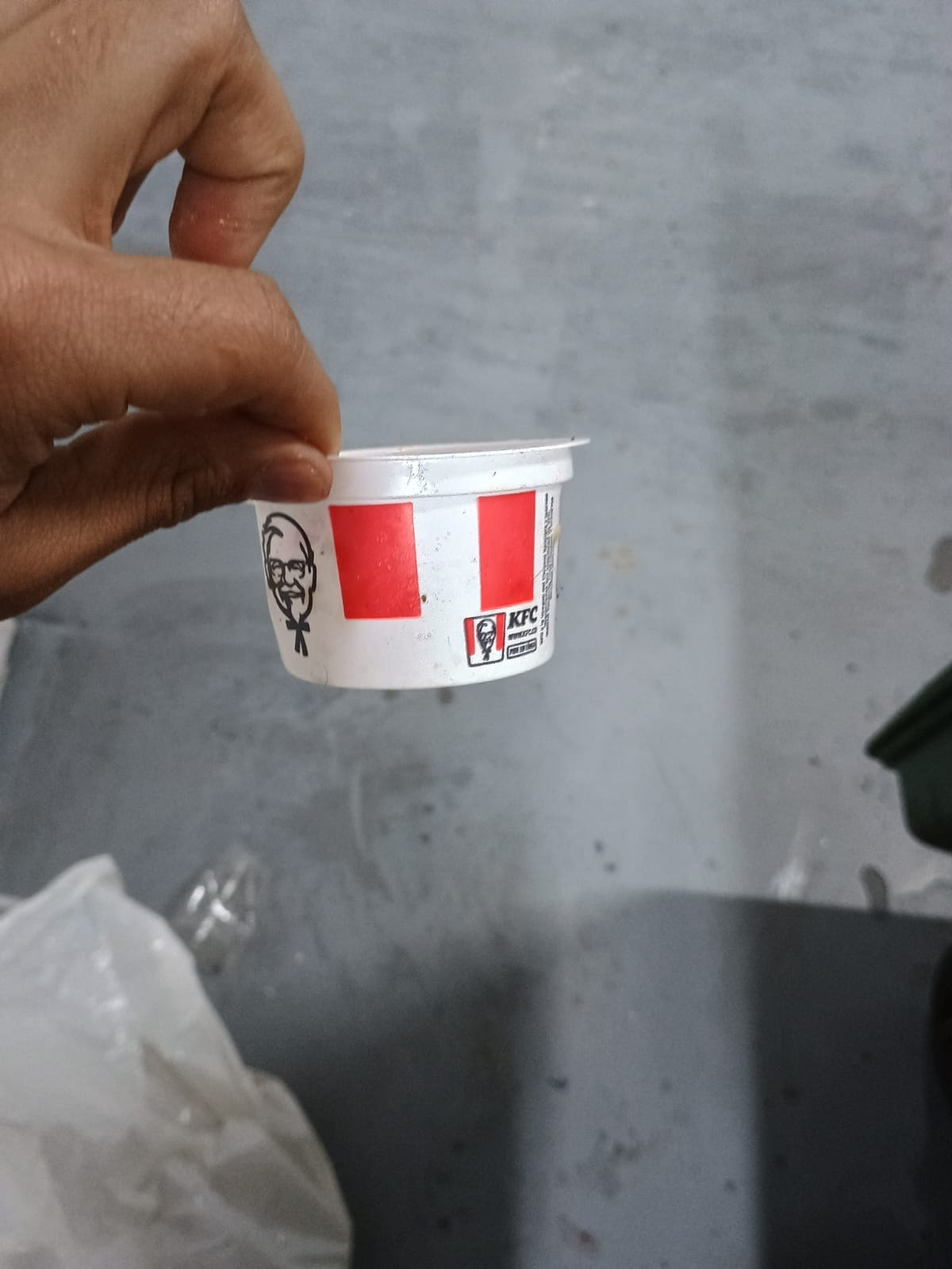Plastico: (246, 442, 591, 692)
